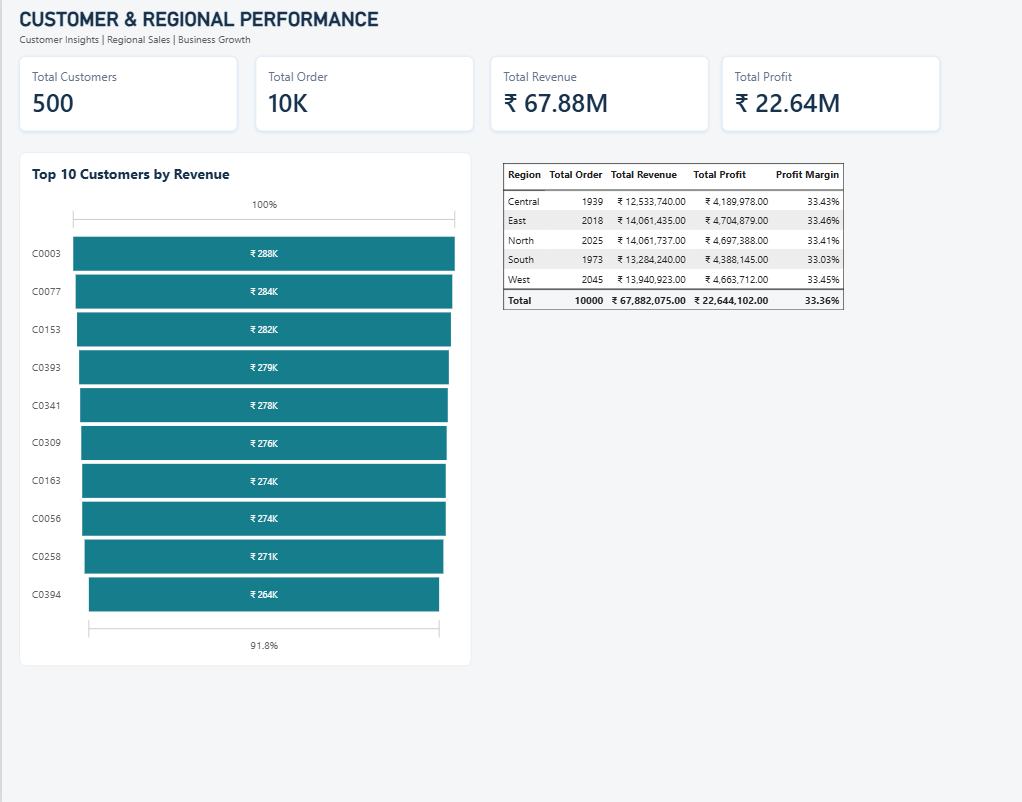

This screenshot's page, from the dashboard's own definition file:
{"tool":"powerbi","page":{"name":"Customer & Regional","canvas":[1920,1080],"ordinal":2},"visuals":[{"type":"textbox","title":"CUSTOMER & REGIONAL PERFORMANCE","box":[24,16,900,65],"z":0},{"type":"cardVisual","fields":{"Data":["retail_sales_db sales.Total Customers"]},"box":[24,82,290,100],"z":1000},{"type":"cardVisual","fields":{"Data":["retail_sales_db sales.Total Order"]},"box":[338,82,290,100],"z":2000},{"type":"cardVisual","fields":{"Data":["retail_sales_db sales.Total Revenue"]},"box":[652,82,290,100],"z":3000},{"type":"cardVisual","fields":{"Data":["retail_sales_db sales.Total Profit"]},"box":[960,82,290,100],"z":4000},{"type":"funnel","title":"Top 10 Customers by Revenue","fields":{"Category":["retail_sales_db sales.Customer_ID"],"Y":["retail_sales_db sales.Total Revenue"]},"box":[24,210,602.5,685],"z":5000},{"type":"tableEx","fields":{"Values":["retail_sales_db sales.Region","retail_sales_db sales.Total Order","retail_sales_db sales.Total Revenue","retail_sales_db sales.Total Profit","retail_sales_db sales.Profit Margin"]},"box":[651.7,210,492.5,240],"z":6000},{"type":"slicer","title":"Year","fields":{"Values":["Date_Table.Year"]},"box":[1702,94,190,65],"z":7000},{"type":"slicer","fields":{"Values":["retail_sales_db sales.Region"]},"box":[1702,16,190,65],"z":8000},{"type":"slicer","fields":{"Values":["retail_sales_db sales.Category"]},"box":[1702,178,190,65],"z":9000}]}

Visuals, with their boxes on the page's 1920x1080 design canvas (x1, y1, x2, y2). These are canvas units, not pixel positions in the 1022x802 screenshot, which may show the page scaled, cropped or inside an application window:
"CUSTOMER & REGIONAL PERFORMANCE" textbox: <bbox>24, 16, 924, 81</bbox>
cardVisual - retail_sales_db sales.Total Customers: <bbox>24, 82, 314, 182</bbox>
cardVisual - retail_sales_db sales.Total Order: <bbox>338, 82, 628, 182</bbox>
cardVisual - retail_sales_db sales.Total Revenue: <bbox>652, 82, 942, 182</bbox>
cardVisual - retail_sales_db sales.Total Profit: <bbox>960, 82, 1250, 182</bbox>
"Top 10 Customers by Revenue" funnel: <bbox>24, 210, 626, 895</bbox>
tableEx - retail_sales_db sales.Region x retail_sales_db sales.Total Order: <bbox>652, 210, 1144, 450</bbox>
"Year" slicer: <bbox>1702, 94, 1892, 159</bbox>
slicer - retail_sales_db sales.Region: <bbox>1702, 16, 1892, 81</bbox>
slicer - retail_sales_db sales.Category: <bbox>1702, 178, 1892, 243</bbox>
